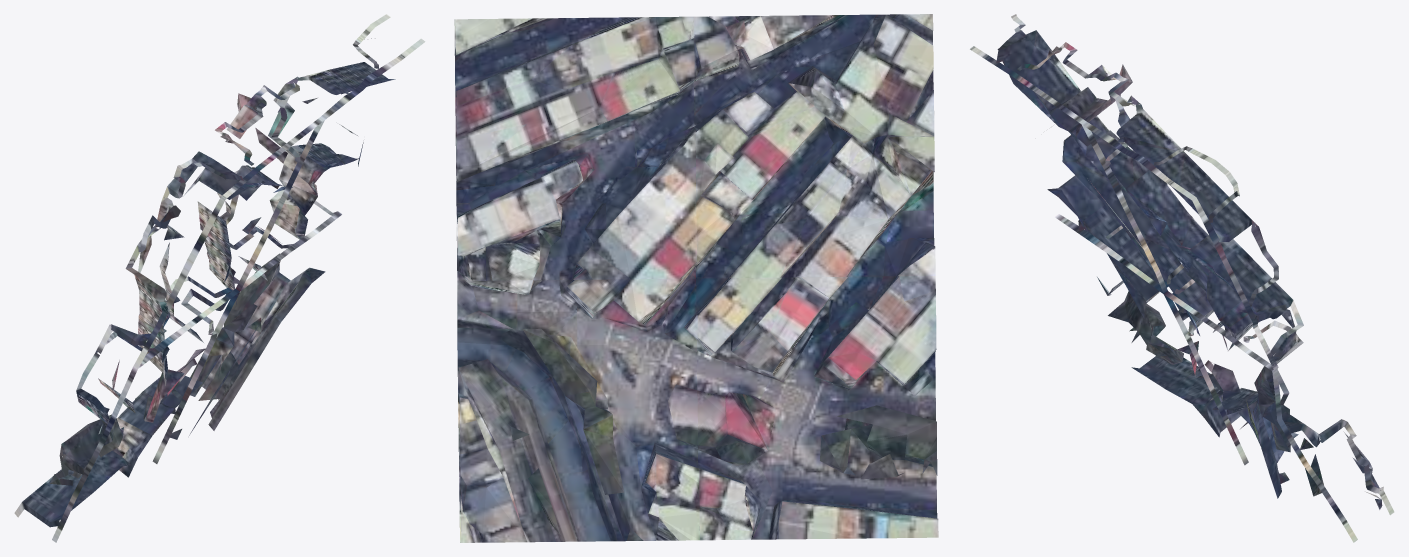
3 renders of one model, left to right at view 1: azimuth 30°, elevation 25°; view 2: azimuth 150°, elevation 25°; view 3: azimuth 270°, elevation 25°, orthographic. The views are drawn at different scales.
Bounding box in the file's own units: 159 × 151 × 139.
1 material, 1 textured.
